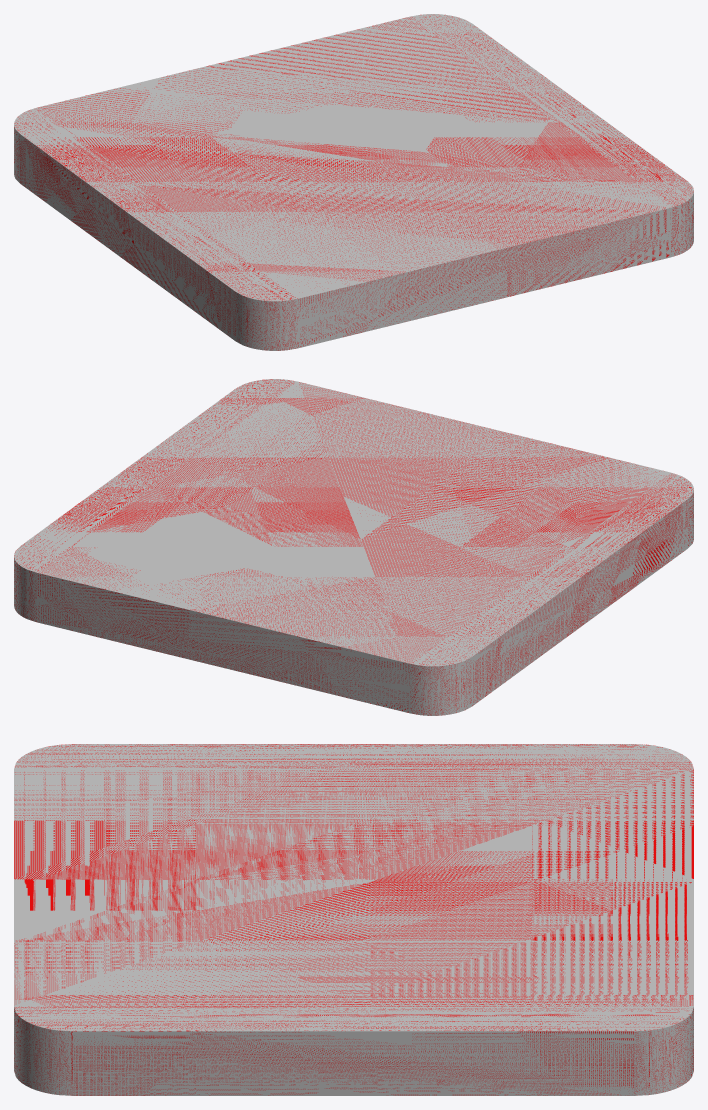
File: original-35.obj
3 views of the same model, one above another, from view 1: azimuth 30°, elevation 25°; view 2: azimuth 150°, elevation 25°; view 3: azimuth 270°, elevation 25° (orthographic). The views are drawn at different scales.
Visible parts, largest first — view 1: mesh34/mesh34-geometry#mesh34-geometry; view 2: mesh34/mesh34-geometry#mesh34-geometry; view 3: mesh34/mesh34-geometry#mesh34-geometry.
Boxes of the visible parts, left/top/right/bottom form: mesh34/mesh34-geometry#mesh34-geometry: left=14, top=14, right=693, bottom=350; mesh34/mesh34-geometry#mesh34-geometry: left=14, top=379, right=693, bottom=715; mesh34/mesh34-geometry#mesh34-geometry: left=14, top=744, right=693, bottom=1095.
Bounding box in the file's own units: 0.1057 × 0.0111 × 0.1057.
